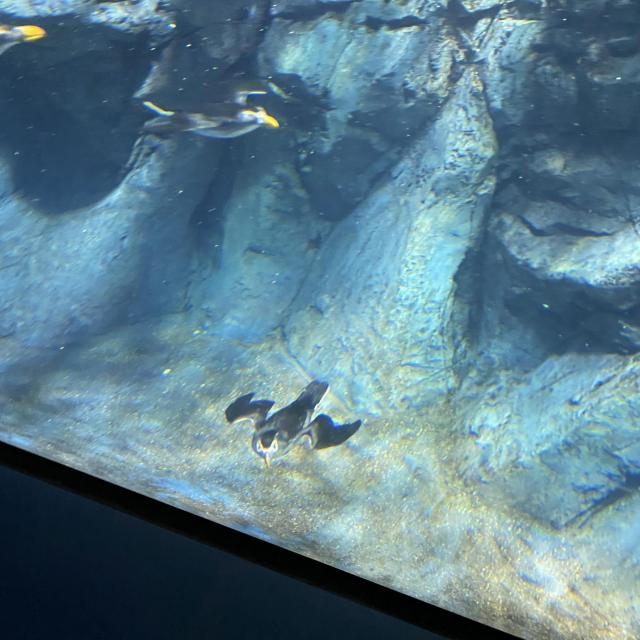puffin: (226, 380, 362, 469), (134, 82, 282, 138), (0, 22, 49, 60)
